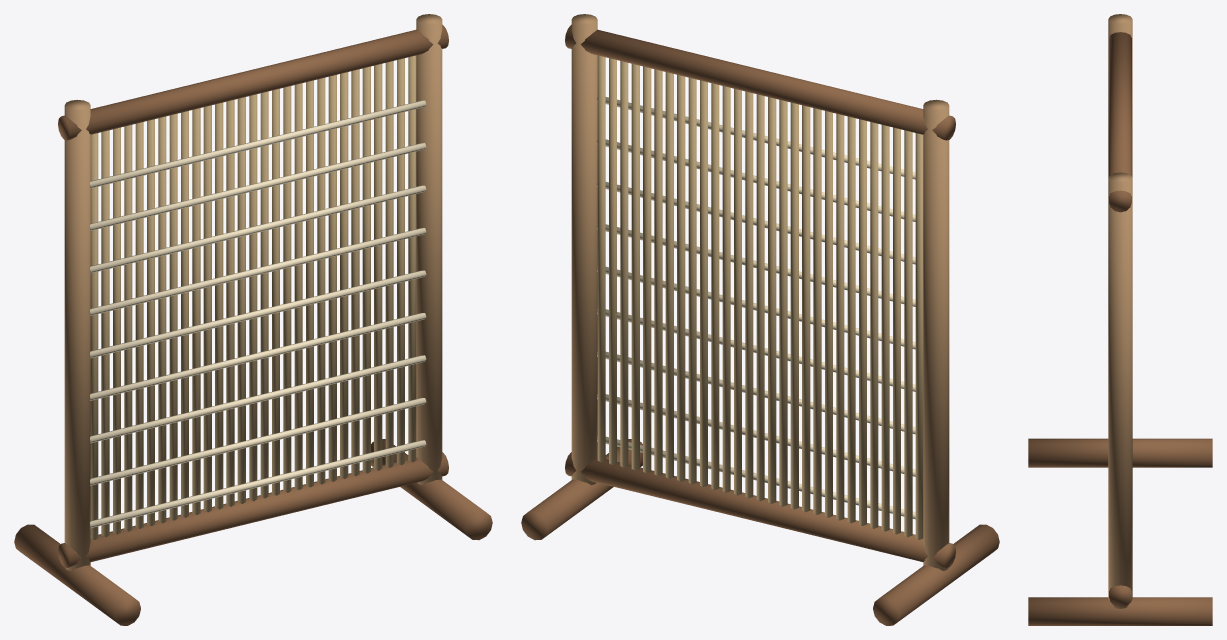
The model's file is reed-screen.glb.
The picture shows the model from 3 angles, left to right: view 1: azimuth 30°, elevation 25°; view 2: azimuth 150°, elevation 25°; view 3: azimuth 270°, elevation 25°; orthographic projection. The views are drawn at different scales.
Visible parts, largest first — view 1: reed-screen__rope, reed-screen__wood, reed-screen__linen, reed-screen__woodlight; view 2: reed-screen__rope, reed-screen__wood, reed-screen__woodlight, reed-screen__linen; view 3: reed-screen__wood, reed-screen__woodlight.
Part boxes in pixels (x1,y1,x2,y2): reed-screen__rope: (90, 55, 416, 539); reed-screen__wood: (14, 24, 492, 625); reed-screen__linen: (90, 100, 426, 528); reed-screen__woodlight: (64, 14, 442, 570); reed-screen__rope: (597, 55, 923, 539); reed-screen__wood: (521, 24, 999, 625); reed-screen__woodlight: (571, 14, 949, 570); reed-screen__linen: (597, 97, 915, 519); reed-screen__wood: (1028, 32, 1212, 625); reed-screen__woodlight: (1108, 14, 1132, 608).
Bounding box in the file's own units: 1.4 × 1.71 × 0.64.
